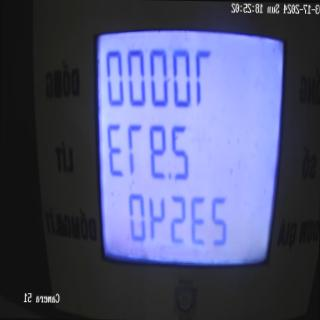screen: (85, 3, 292, 298)
